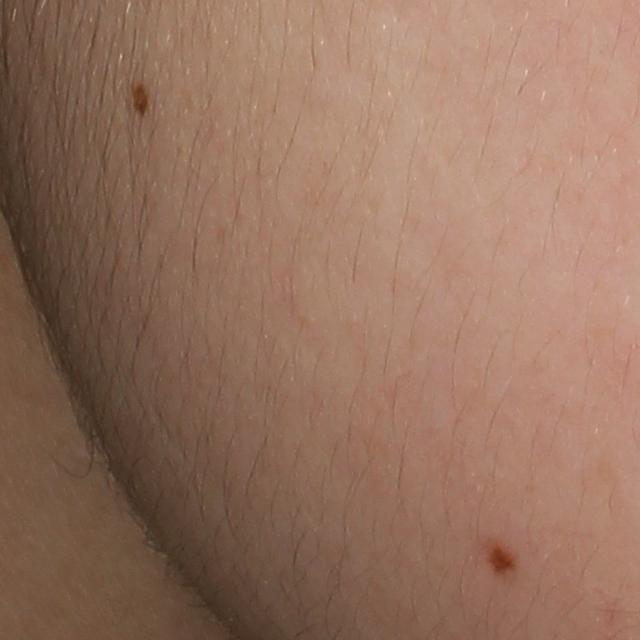nevus: (486, 535, 516, 580), (130, 81, 148, 111)
